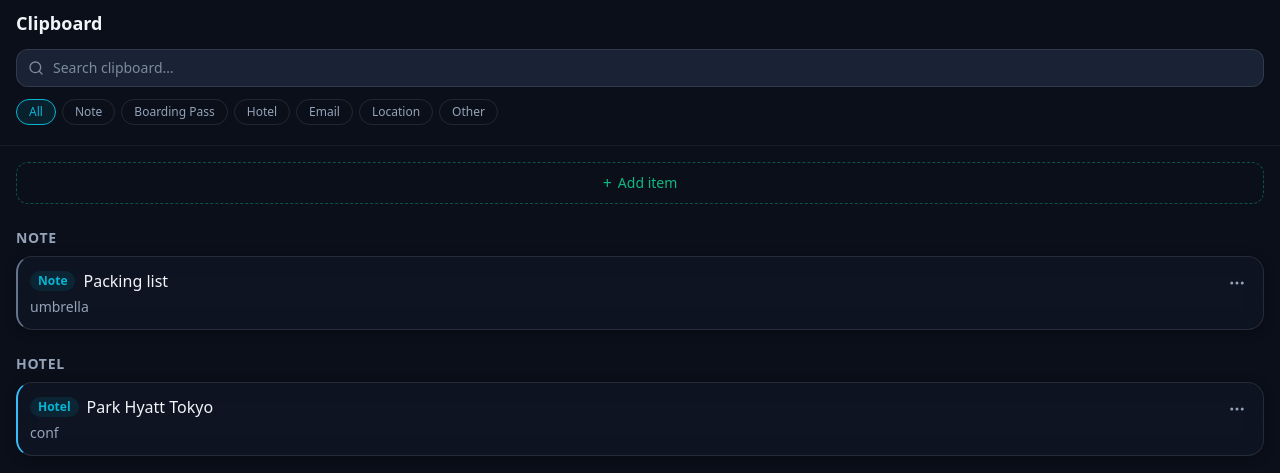
Test case: ClipboardTab — search & filter › shows no-results state and a clear button when nothing matches
In the search field with test id "clipboard-search": point(640, 68) 16,49 -> 1264,87, type "zzzzz-no-match"
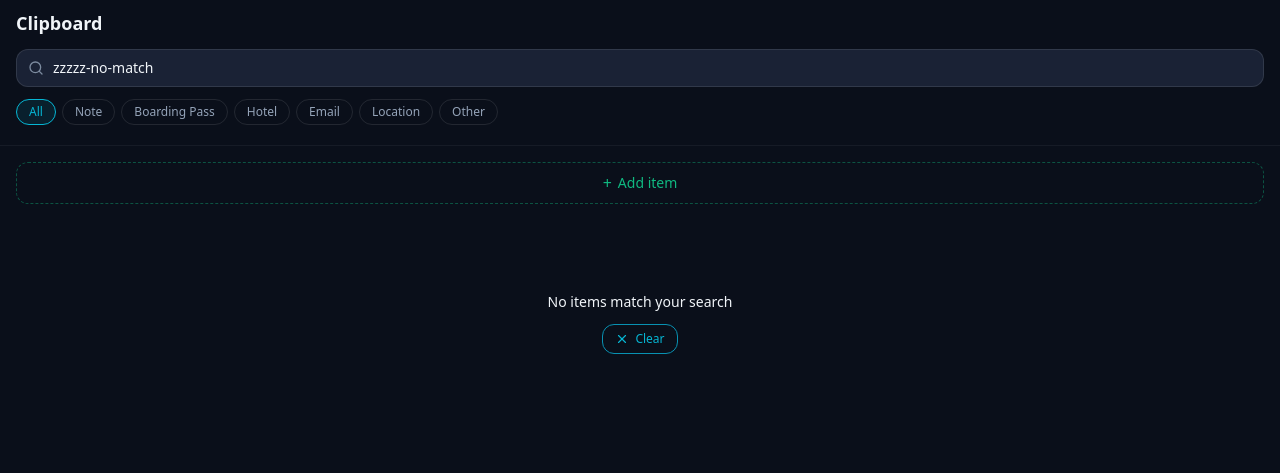
Expected: the element with test id "no-results" is shown, 548,292 -> 732,354
Click the button with test id "clear-search-btn": point(640, 339) 602,324 -> 678,354
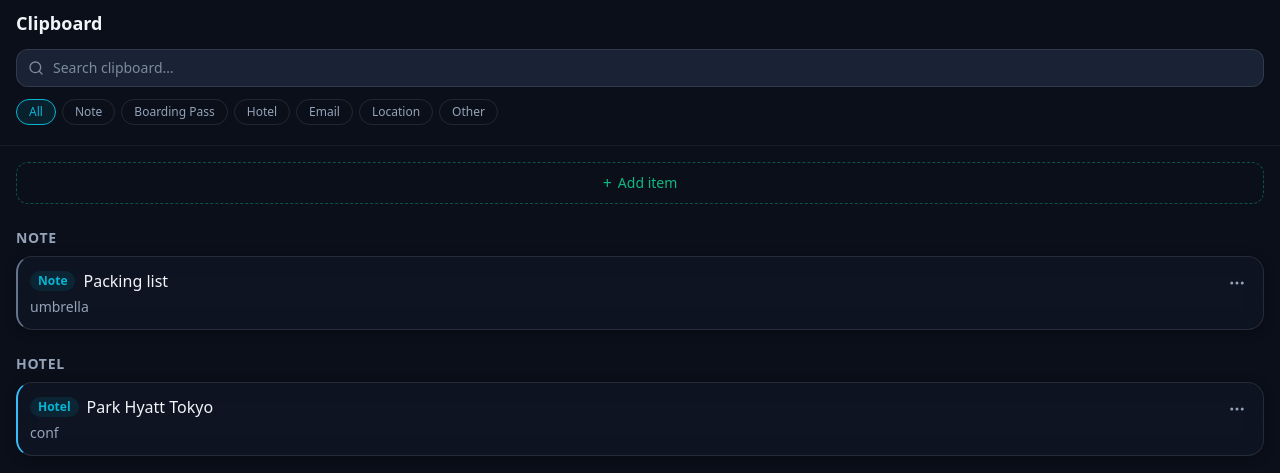
Expected: the text "Park Hyatt Tokyo" is shown, 87,395 -> 213,419
Expected: the text "Packing list" is shown, 84,269 -> 168,293
